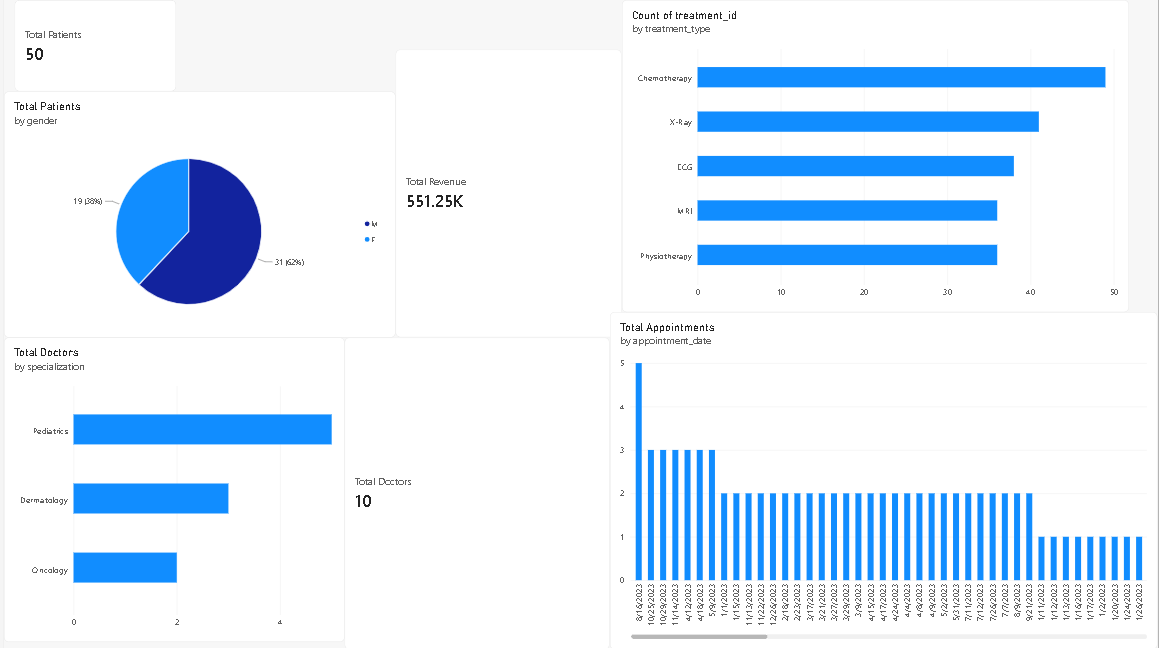

This screenshot's page, from the dashboard's own definition file:
{"tool":"powerbi","page":{"name":"Page 1","canvas":[1920,1080],"ordinal":0},"visuals":[{"type":"cardVisual","fields":{"Data":["patients.Total Patients"]},"box":[17.5,0,269.5,152.2],"z":0},{"type":"cardVisual","fields":{"Data":["doctors.Total Doctors"]},"box":[566.5,561.5,441.7,519.1],"z":1000},{"type":"cardVisual","fields":{"Data":["billing.Total Revenue"]},"box":[651.4,82.4,376.8,479.2],"z":2000},{"type":"pieChart","fields":{"Category":["patients.gender"],"Y":["patients.Total Patients"]},"box":[0,152.2,651.4,409.3],"z":3000},{"type":"clusteredBarChart","fields":{"Category":["doctors.specialization"],"Y":["doctors.Total Doctors"]},"box":[0,561.5,566.5,506.6],"z":4000},{"type":"clusteredColumnChart","fields":{"Category":["appointments.appointment_date"],"Y":["appointments.Total Appointments"]},"box":[1008.3,519.1,910.9,561.5],"z":5000},{"type":"clusteredBarChart","fields":{"Category":["treatments.treatment_type"],"Y":["CountNonNull(treatments.treatment_id)"]},"box":[1028.2,0,843.5,519.1],"z":6000}]}

Visuals, with their boxes in screenshot pixels (x1, y1, x2, y2), scaled from the page's 1920x1080 canvas onto the 1159x648 screenshot:
cardVisual - patients.Total Patients: (11, 0, 173, 91)
cardVisual - doctors.Total Doctors: (342, 337, 609, 647)
cardVisual - billing.Total Revenue: (393, 49, 621, 337)
pieChart - patients.gender x patients.Total Patients: (0, 91, 393, 337)
clusteredBarChart - doctors.specialization x doctors.Total Doctors: (0, 337, 342, 641)
clusteredColumnChart - appointments.appointment_date x appointments.Total Appointments: (609, 311, 1158, 647)
clusteredBarChart - treatments.treatment_type x CountNonNull(treatments.treatment_id): (621, 0, 1130, 311)
